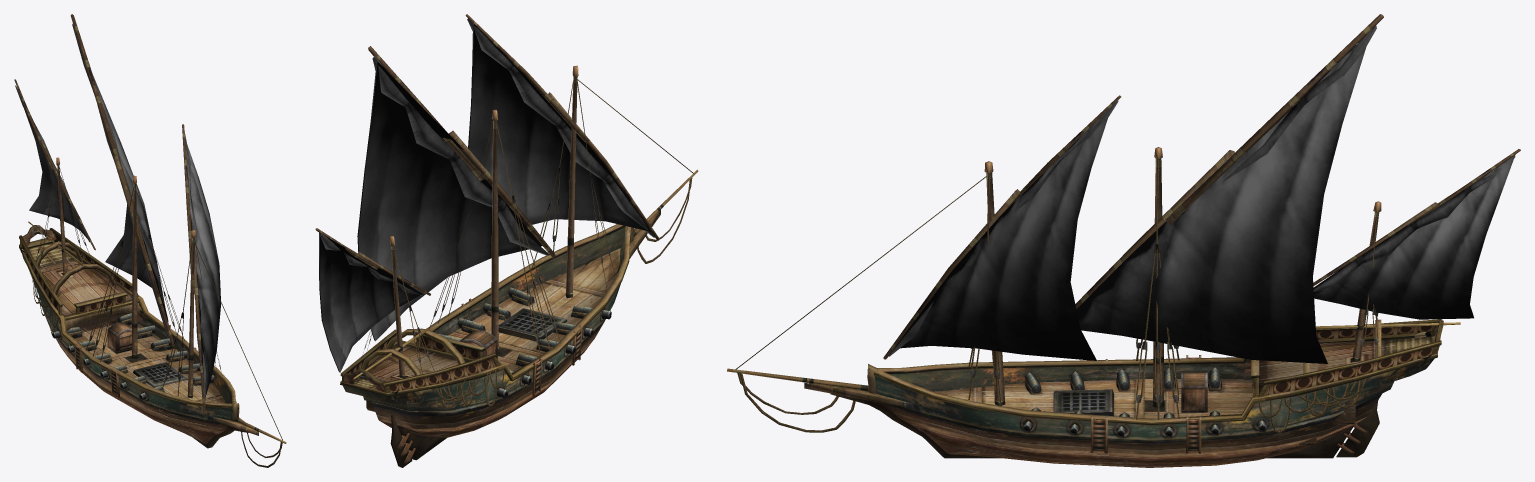
The model's file is T_Ship_02.fbx.
3 views of the same model, side by side, from view 1: azimuth 30°, elevation 25°; view 2: azimuth 150°, elevation 25°; view 3: azimuth 270°, elevation 25° (orthographic). The views are drawn at different scales.
Parts seen in each view (by area): view 1: T_Ship_02_p2, T_Ship_02, T_Ship_p1, T_Ship_p1_off, T_Ship_02_p3, T_Ship_02_p4; view 2: T_Ship_p1, T_Ship_02_p2, T_Ship_02, T_Ship_p1_off, T_Ship_02_p3, T_Ship_02_p5, T_Ship_02_p4; view 3: T_Ship_p1, T_Ship_02_p2, T_Ship_02, T_Ship_02_p3, T_Ship_p1_off, T_Ship_02_p4, T_Ship_02_p5.
Boxes of the visible parts, x1,y1,x2,y2 form: T_Ship_02_p2: [19, 238, 236, 431]; T_Ship_02: [14, 14, 286, 467]; T_Ship_p1: [24, 43, 220, 396]; T_Ship_p1_off: [15, 24, 206, 405]; T_Ship_02_p3: [63, 350, 223, 443]; T_Ship_02_p4: [192, 403, 248, 448]; T_Ship_p1: [319, 24, 652, 372]; T_Ship_02_p2: [340, 224, 631, 429]; T_Ship_02: [315, 14, 698, 392]; T_Ship_p1_off: [319, 18, 655, 295]; T_Ship_02_p3: [379, 340, 593, 437]; T_Ship_02_p5: [390, 415, 415, 467]; T_Ship_02_p4: [398, 227, 634, 460]; T_Ship_p1: [895, 43, 1515, 363]; T_Ship_02_p2: [873, 331, 1437, 454]; T_Ship_02: [727, 14, 1520, 432]; T_Ship_02_p3: [899, 417, 1366, 467]; T_Ship_p1_off: [888, 25, 1515, 356]; T_Ship_02_p4: [830, 364, 1353, 458]; T_Ship_02_p5: [1336, 400, 1379, 457].
Size of the model in its own units: 2.03 by 6.29 by 9.98.
Materials: 2 (2 with a texture image).
